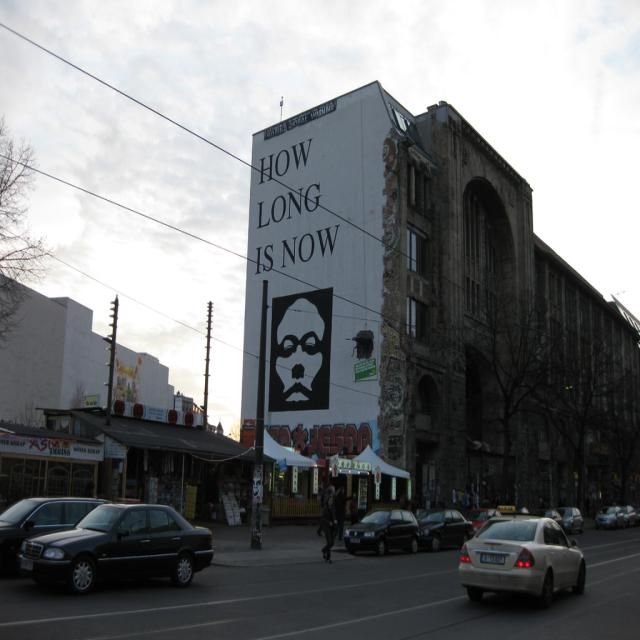car: (20, 502, 213, 590), (458, 512, 584, 605), (340, 507, 418, 556)
